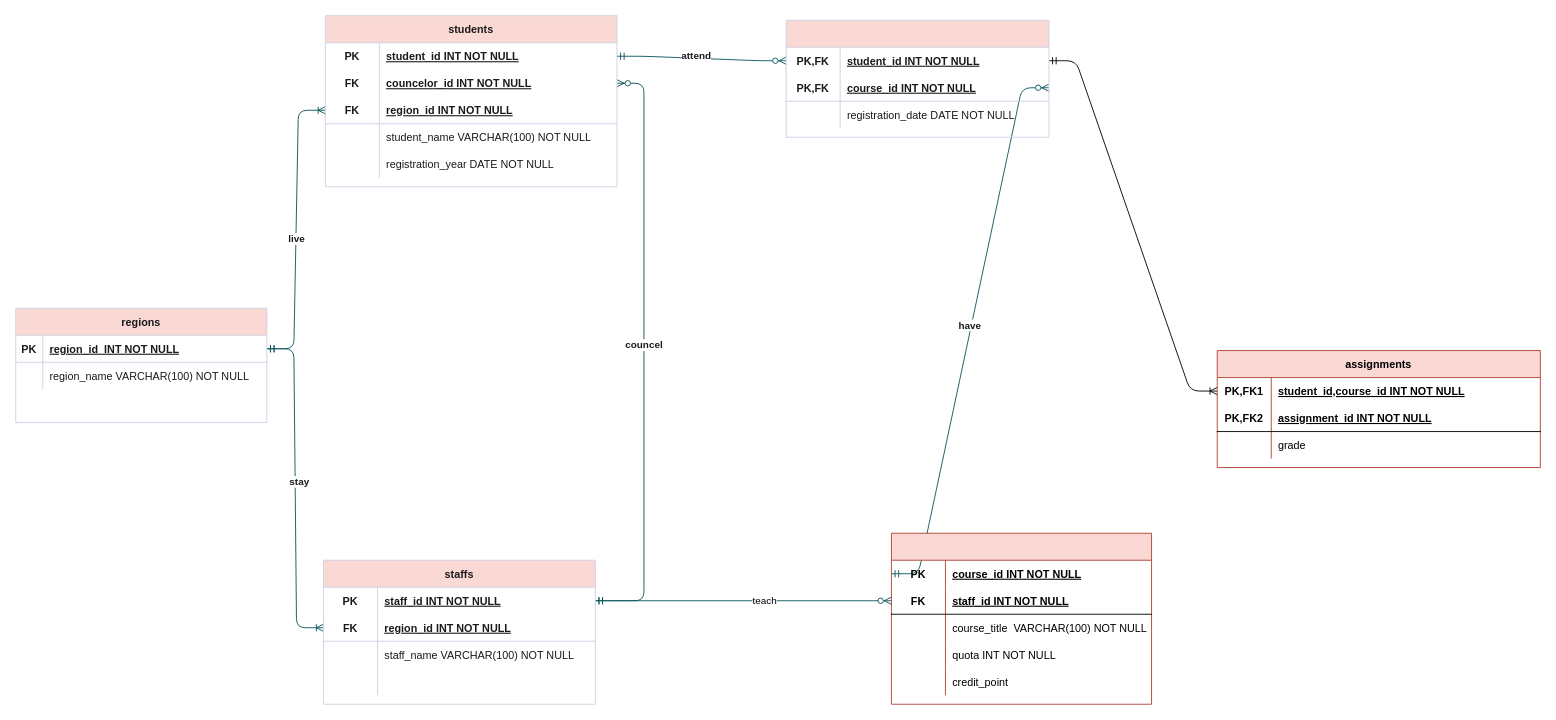
Some shapes in this 1556 by 720 pixel diagram are drawn without their labels. Here are the shapes that lost their labels. From the top down, the box of each, then its label:
(785, 19, 1049, 137): students_courses
(891, 532, 1152, 704): courses
